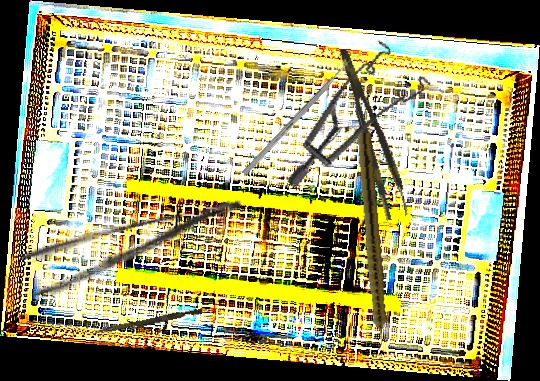Dressing Forceps: (19, 195, 252, 301)
Handpiece: (352, 132, 391, 351)
Pusher: (241, 51, 359, 177), (94, 305, 203, 339)
Speculum: (285, 25, 440, 216)
Tissue Forceps: (337, 43, 411, 222)
